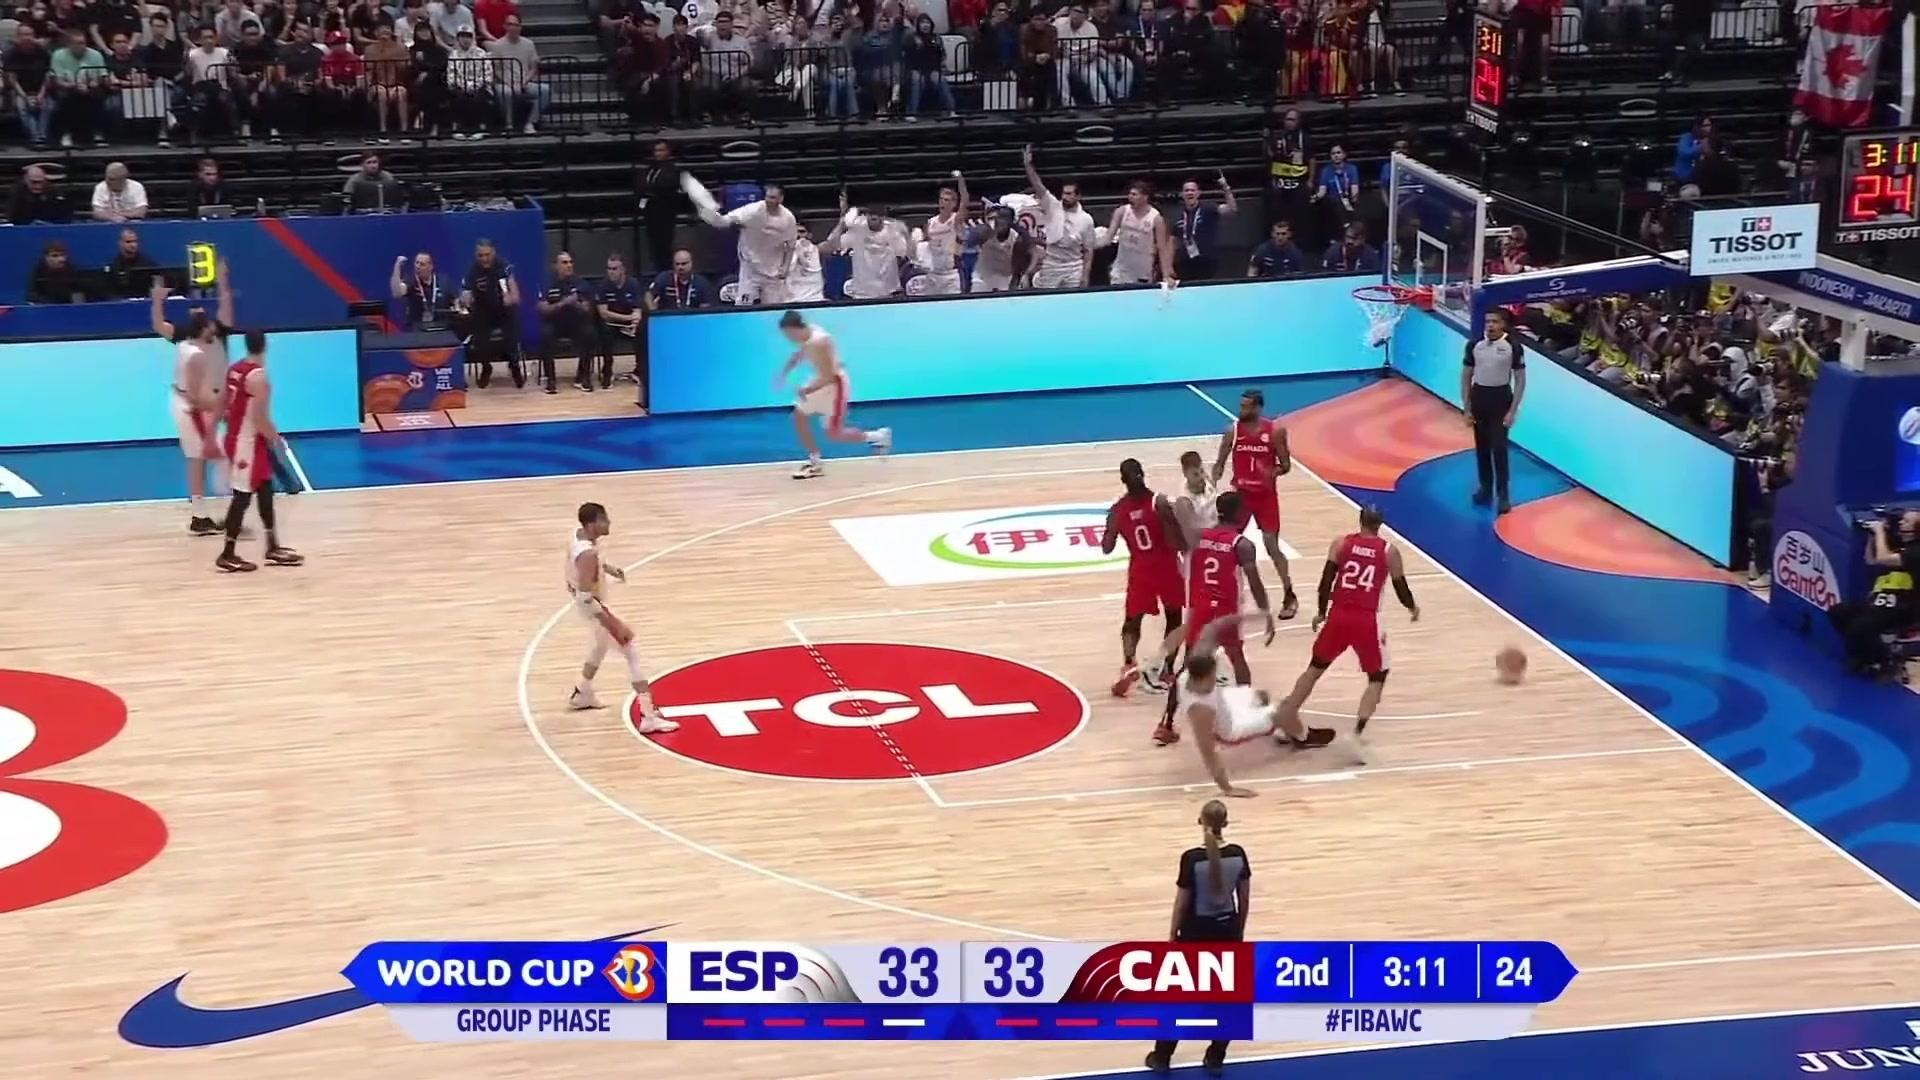foul: (1180, 502, 1425, 799)
